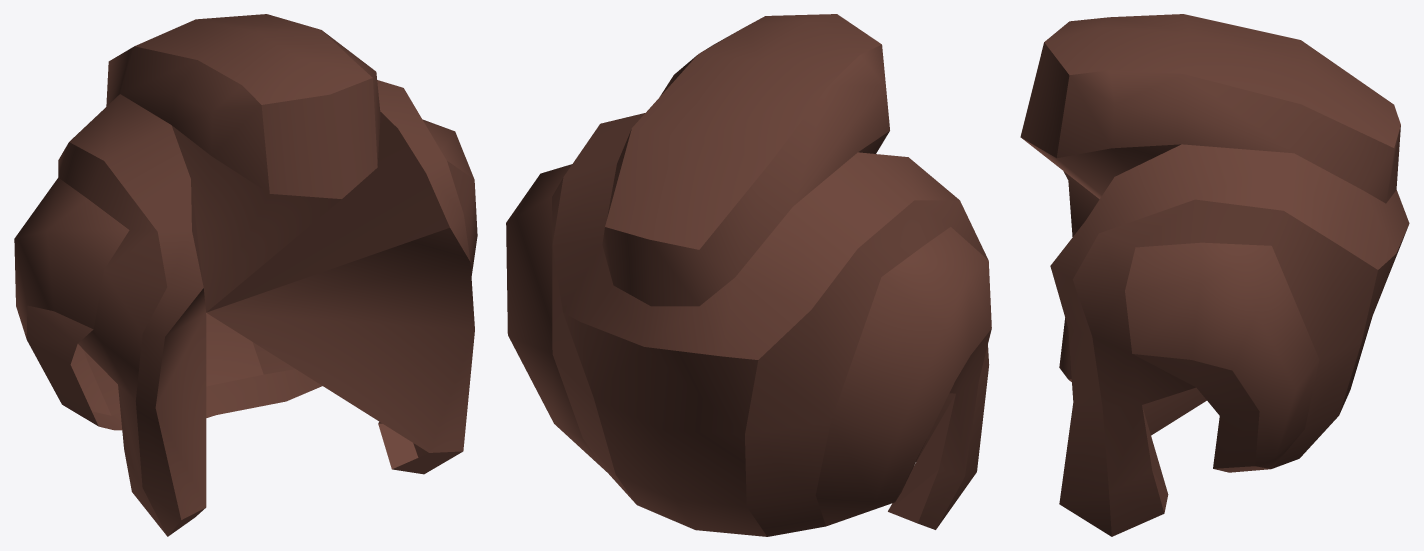
File: Male_Hairs_02_v4.fbx
3 renders of one model, left to right at view 1: azimuth 30°, elevation 25°; view 2: azimuth 150°, elevation 25°; view 3: azimuth 270°, elevation 25°, orthographic. The views are drawn at different scales.
Parts seen in each view (by area): view 1: Male_Hairs_02_v4; view 2: Male_Hairs_02_v4; view 3: Male_Hairs_02_v4.
Part boxes in pixels (x1,y1,x2,y2): Male_Hairs_02_v4: (14, 14, 477, 536); Male_Hairs_02_v4: (506, 14, 991, 536); Male_Hairs_02_v4: (1020, 14, 1409, 536).
Size of the model in its own units: 63.93 by 65.97 by 52.04.
